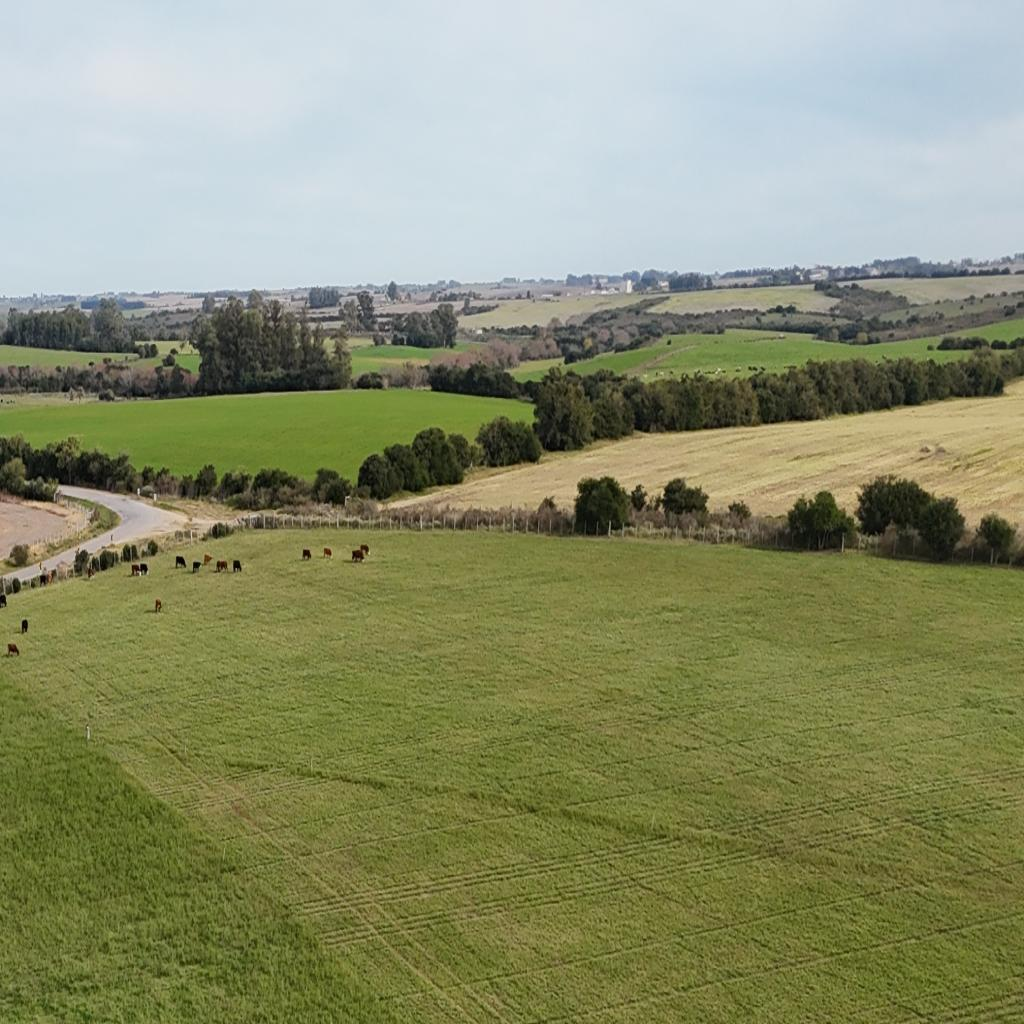cow: (7, 643, 20, 657), (131, 562, 142, 577), (216, 560, 228, 573), (352, 550, 364, 562), (360, 543, 371, 556), (232, 559, 242, 573), (140, 562, 149, 576), (192, 561, 202, 573), (177, 559, 187, 571), (302, 549, 312, 560), (0, 594, 7, 609), (323, 548, 332, 559), (22, 618, 28, 634), (155, 599, 162, 612), (48, 572, 55, 585), (204, 554, 212, 565), (39, 574, 44, 588), (88, 569, 94, 580)
